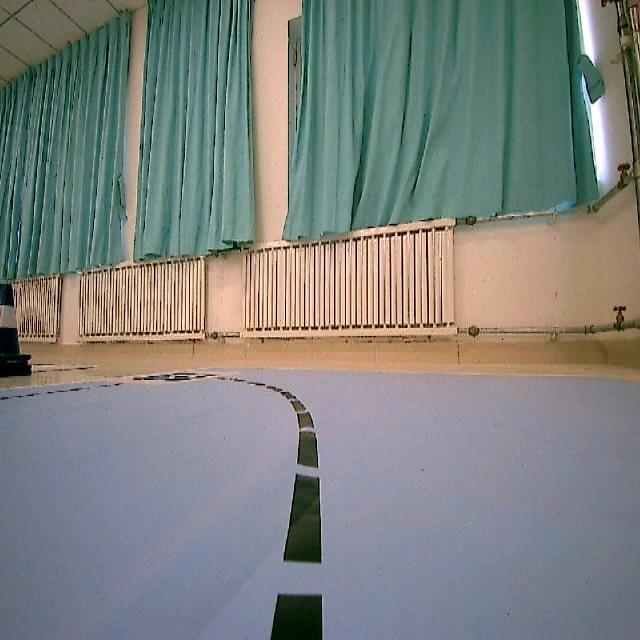obstacle: (0, 280, 34, 387)
